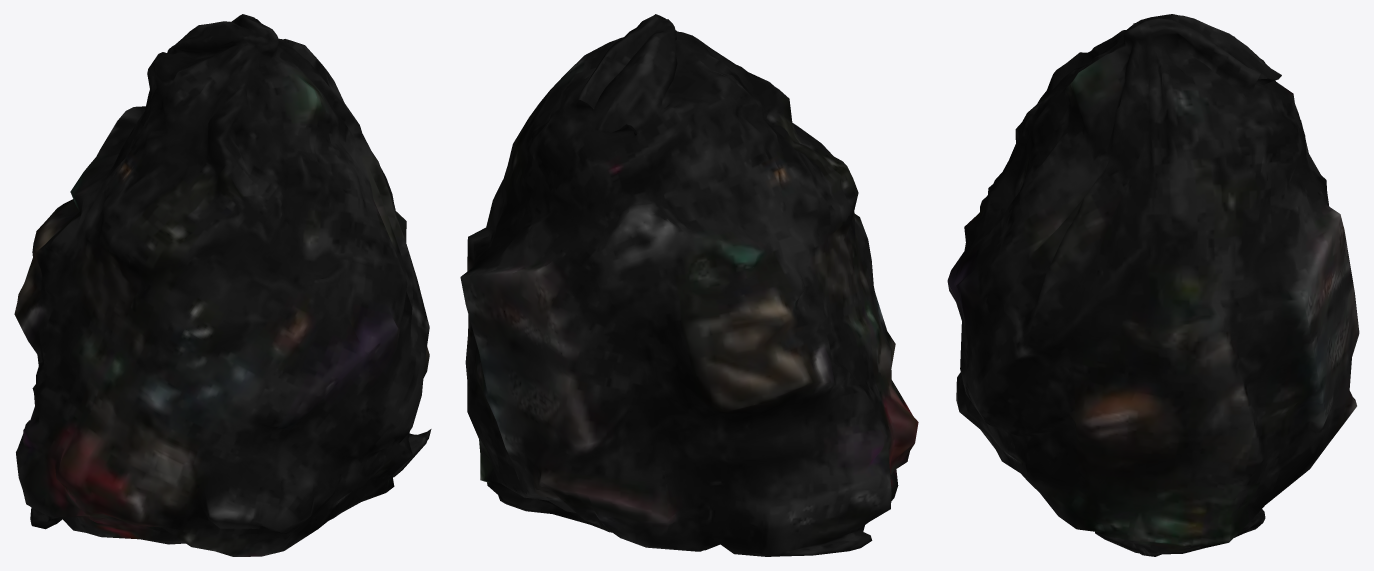
The model's file is trashbag.glb.
3 renders of one model, left to right at view 1: azimuth 30°, elevation 25°; view 2: azimuth 150°, elevation 25°; view 3: azimuth 270°, elevation 25°, orthographic. The views are drawn at different scales.
Visible parts, largest first — view 1: trashbag; view 2: trashbag; view 3: trashbag.
Boxes of the visible parts, box(x1,y1,x2,y2) form: trashbag: box(14, 14, 431, 556); trashbag: box(460, 14, 918, 556); trashbag: box(947, 14, 1359, 556).
Size of the model in its own units: 0.5281 by 0.575 by 0.4629.
1 material, 1 textured.
